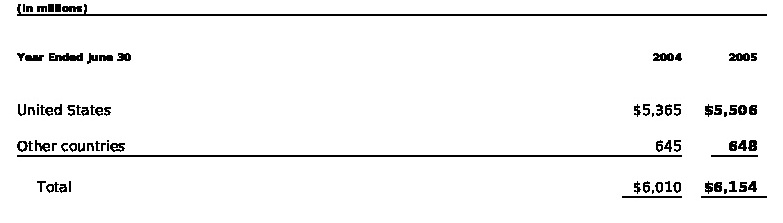table: (0, 0, 783, 223)
